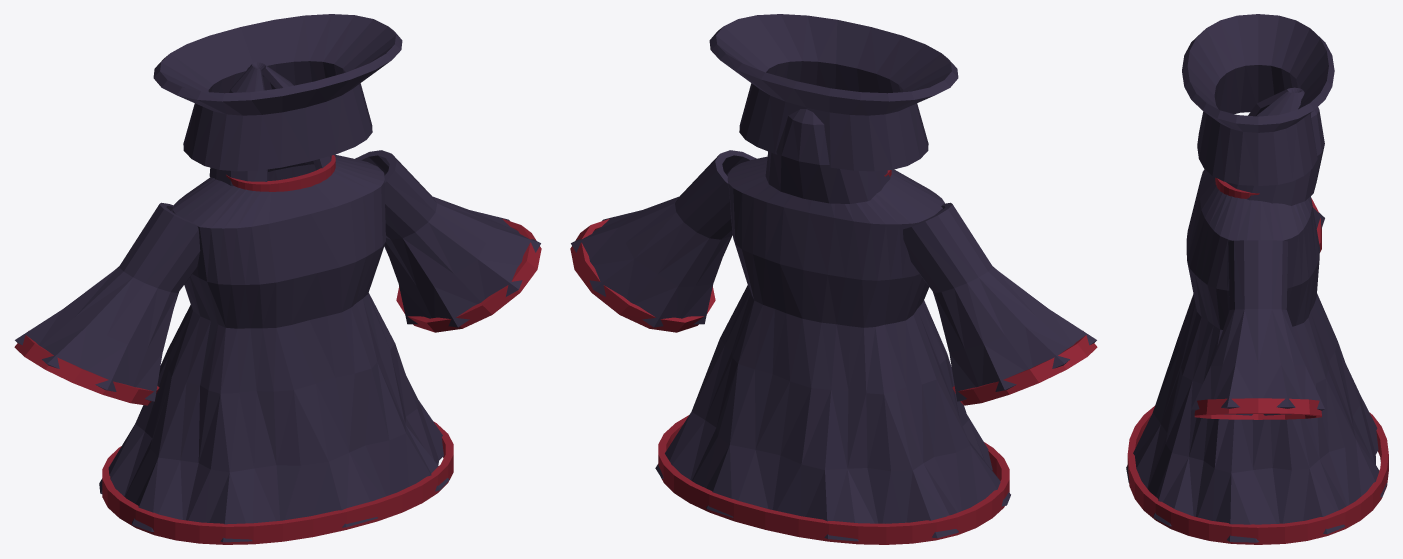
Rendered from black_robe.obj.
3 views of the same model, side by side, from view 1: azimuth 30°, elevation 25°; view 2: azimuth 150°, elevation 25°; view 3: azimuth 270°, elevation 25° (orthographic). The views are drawn at different scales.
Visible parts, largest first — view 1: A_Body.001_black_robe_cloth, C_Sleeve.001_black_robe_cloth, F_Collar.001_black_robe_cloth, D_HemTrim.001_black_robe_trim, C_Cuff.001_black_robe_trim, B_Hood.001_black_robe_cloth, D_NeckTrim.001_black_robe_trim; view 2: A_Body.001_black_robe_cloth, C_Sleeve.001_black_robe_cloth, F_Collar.001_black_robe_cloth, D_HemTrim.001_black_robe_trim, B_Hood.001_black_robe_cloth, C_Cuff.001_black_robe_trim; view 3: A_Body.001_black_robe_cloth, F_Collar.001_black_robe_cloth, C_Sleeve.001_black_robe_cloth, D_HemTrim.001_black_robe_trim, B_Hood.001_black_robe_cloth, C_Cuff.001_black_robe_trim, D_NeckTrim.001_black_robe_trim.
Boxes of the visible parts, x1,y1,x2,y2 form: A_Body.001_black_robe_cloth: (99, 154, 449, 542); C_Sleeve.001_black_robe_cloth: (15, 150, 540, 401); F_Collar.001_black_robe_cloth: (153, 14, 402, 171); D_HemTrim.001_black_robe_trim: (102, 421, 453, 544); C_Cuff.001_black_robe_trim: (14, 218, 541, 405); B_Hood.001_black_robe_cloth: (209, 62, 331, 185); D_NeckTrim.001_black_robe_trim: (226, 155, 335, 191); A_Body.001_black_robe_cloth: (655, 156, 1010, 541); C_Sleeve.001_black_robe_cloth: (571, 150, 1096, 401); F_Collar.001_black_robe_cloth: (709, 14, 958, 171); D_HemTrim.001_black_robe_trim: (658, 415, 1009, 544); B_Hood.001_black_robe_cloth: (765, 109, 890, 203); C_Cuff.001_black_robe_trim: (570, 218, 1097, 405); A_Body.001_black_robe_cloth: (1126, 169, 1386, 542); F_Collar.001_black_robe_cloth: (1182, 14, 1334, 185); C_Sleeve.001_black_robe_cloth: (1191, 207, 1324, 415); D_HemTrim.001_black_robe_trim: (1127, 406, 1388, 544); B_Hood.001_black_robe_cloth: (1226, 87, 1324, 205); C_Cuff.001_black_robe_trim: (1194, 198, 1321, 419); D_NeckTrim.001_black_robe_trim: (1215, 177, 1259, 198).
Bounding box in the file's own units: 4.02 × 3.23 × 1.89.
